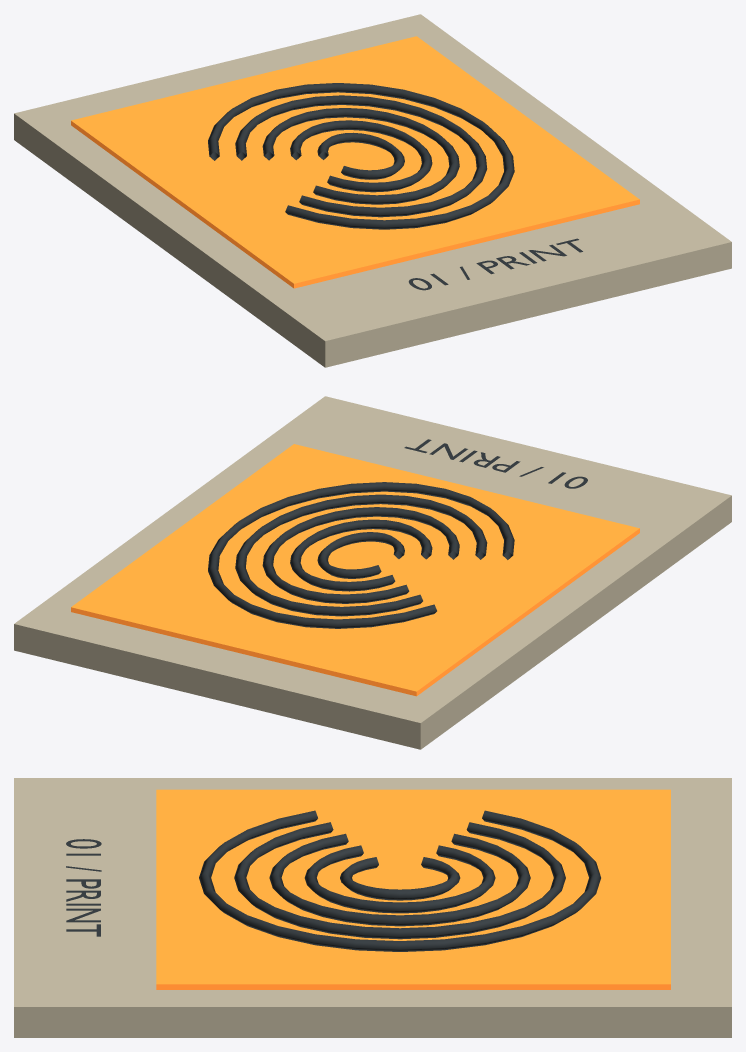
File: clue2.glb
3 views of the same model, one above another, from view 1: azimuth 30°, elevation 25°; view 2: azimuth 150°, elevation 25°; view 3: azimuth 270°, elevation 25° (orthographic). The views are drawn at different scales.
Parts seen in each view (by area): view 1: BIOMOD_S01V2_Card, BIOMOD_S01V2_CardColor, BIOMOD_S01V2_Fingerprint.004, BIOMOD_S01V2_Fingerprint.003, BIOMOD_S01V2_Fingerprint.002, BIOMOD_S01V2_Fingerprint.001, BIOMOD_S01V2_Fingerprint, BIOMOD_S01V2_CardCaption; view 2: BIOMOD_S01V2_Card, BIOMOD_S01V2_CardColor, BIOMOD_S01V2_Fingerprint.004, BIOMOD_S01V2_Fingerprint.003, BIOMOD_S01V2_Fingerprint.002, BIOMOD_S01V2_Fingerprint.001, BIOMOD_S01V2_Fingerprint, BIOMOD_S01V2_CardCaption; view 3: BIOMOD_S01V2_Card, BIOMOD_S01V2_CardColor, BIOMOD_S01V2_Fingerprint.004, BIOMOD_S01V2_Fingerprint.003, BIOMOD_S01V2_Fingerprint.002, BIOMOD_S01V2_Fingerprint.001, BIOMOD_S01V2_Fingerprint, BIOMOD_S01V2_CardCaption.
Boxes of the visible parts, left/top/right/bottom form: BIOMOD_S01V2_Card: left=14, top=14, right=731, bottom=367; BIOMOD_S01V2_CardColor: left=71, top=36, right=639, bottom=288; BIOMOD_S01V2_Fingerprint.004: left=208, top=83, right=514, bottom=229; BIOMOD_S01V2_Fingerprint.003: left=235, top=95, right=487, bottom=217; BIOMOD_S01V2_Fingerprint.002: left=262, top=108, right=459, bottom=204; BIOMOD_S01V2_Fingerprint.001: left=290, top=120, right=432, bottom=192; BIOMOD_S01V2_Fingerprint: left=317, top=132, right=404, bottom=179; BIOMOD_S01V2_CardCaption: left=408, top=238, right=582, bottom=290; BIOMOD_S01V2_Card: left=14, top=396, right=731, bottom=749; BIOMOD_S01V2_CardColor: left=71, top=444, right=639, bottom=696; BIOMOD_S01V2_Fingerprint.004: left=208, top=482, right=514, bottom=628; BIOMOD_S01V2_Fingerprint.003: left=235, top=494, right=487, bottom=616; BIOMOD_S01V2_Fingerprint.002: left=262, top=507, right=459, bottom=603; BIOMOD_S01V2_Fingerprint.001: left=290, top=519, right=432, bottom=591; BIOMOD_S01V2_Fingerprint: left=317, top=532, right=404, bottom=578; BIOMOD_S01V2_CardCaption: left=404, top=439, right=587, bottom=488; BIOMOD_S01V2_Card: left=14, top=778, right=731, bottom=1037; BIOMOD_S01V2_CardColor: left=156, top=789, right=670, bottom=989; BIOMOD_S01V2_Fingerprint.004: left=199, top=810, right=600, bottom=951; BIOMOD_S01V2_Fingerprint.003: left=234, top=822, right=565, bottom=939; BIOMOD_S01V2_Fingerprint.002: left=269, top=833, right=530, bottom=926; BIOMOD_S01V2_Fingerprint.001: left=304, top=845, right=495, bottom=913; BIOMOD_S01V2_Fingerprint: left=340, top=857, right=460, bottom=900; BIOMOD_S01V2_CardCaption: left=66, top=839, right=101, bottom=936.
Size of the model in its own units: 0.8 by 0.083 by 1.06.
